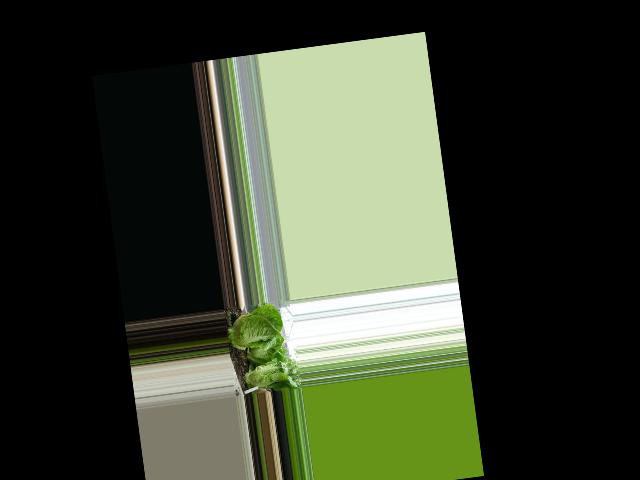lettuce: (236, 355, 296, 392)
